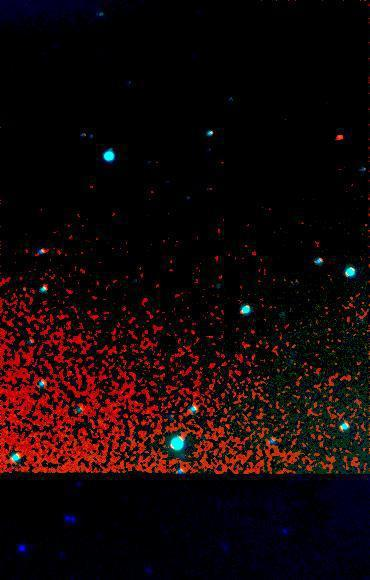star: (324, 121, 354, 151)
